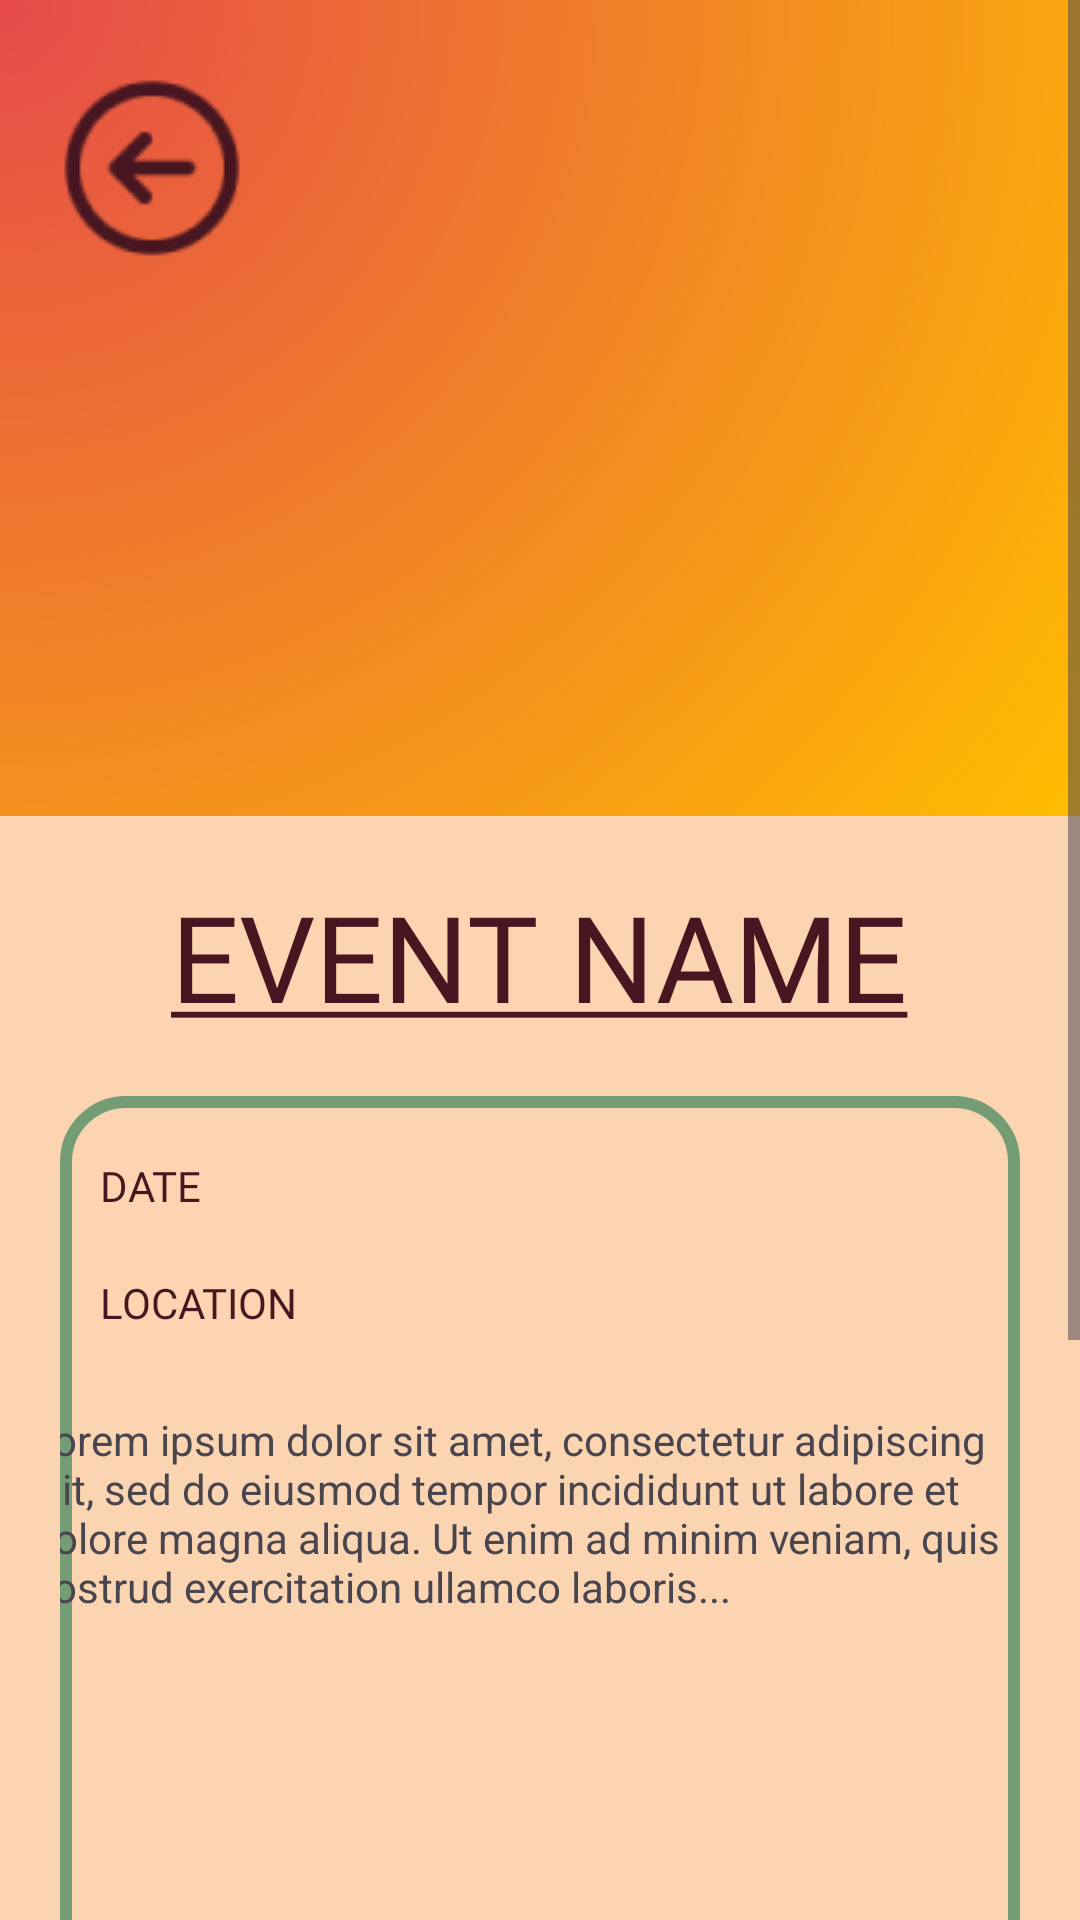

Locate icon controls on the screen. Image size 1080w x 1920h, boxes as (x1, y1, x2, y2).
back arrow: (64, 80, 240, 256)
